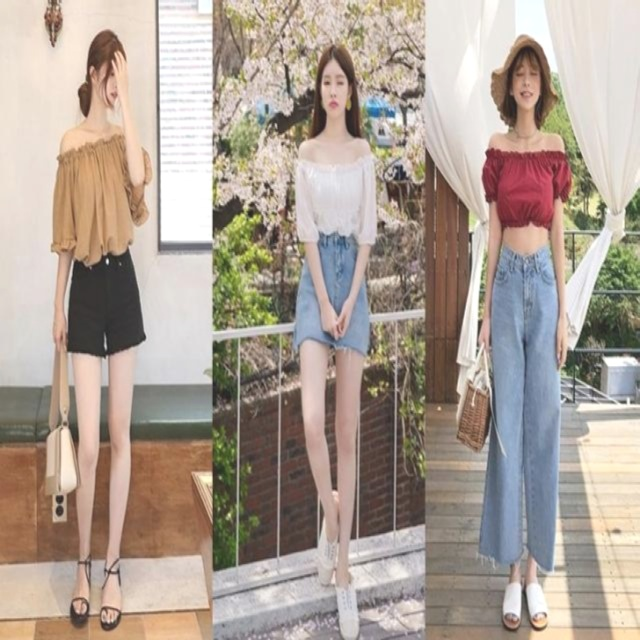Crop_Top: (500, 152, 550, 257)
Miniskirt: (291, 231, 372, 518)
Shorts: (66, 249, 147, 555)
Sleeveless: (58, 127, 73, 154), (298, 132, 313, 158), (354, 135, 370, 157), (489, 129, 501, 147)
low_neckline: (311, 132, 358, 235)
